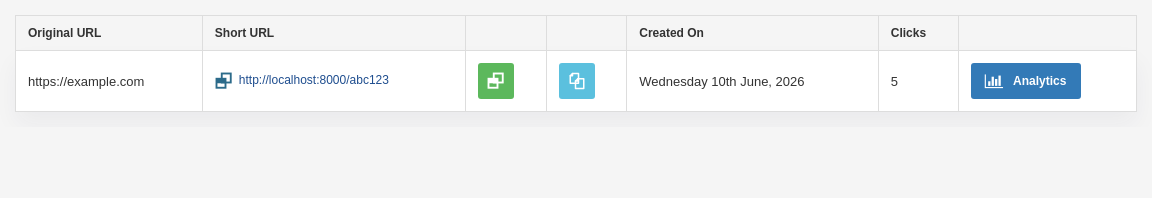
Test: UrlTable › fetches and shows analytics details
This screenshot has width=1152, height=198.
Click the button "Analytics". click: (1026, 81)
box: [970,63,1080,99]
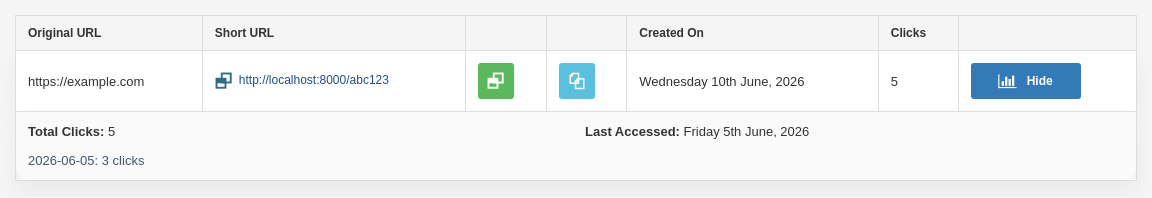
Now the text "Total Clicks:" is shown, box [28,124,104,139]
Now the text "2026-06-05: 3 clicks" is shown, box [28,153,144,168]
